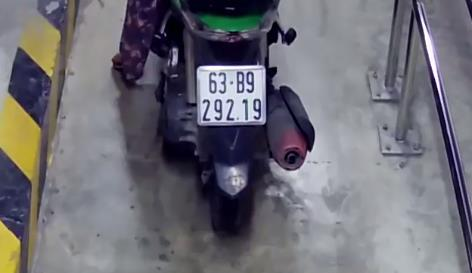lisence: (196, 66, 267, 125)
